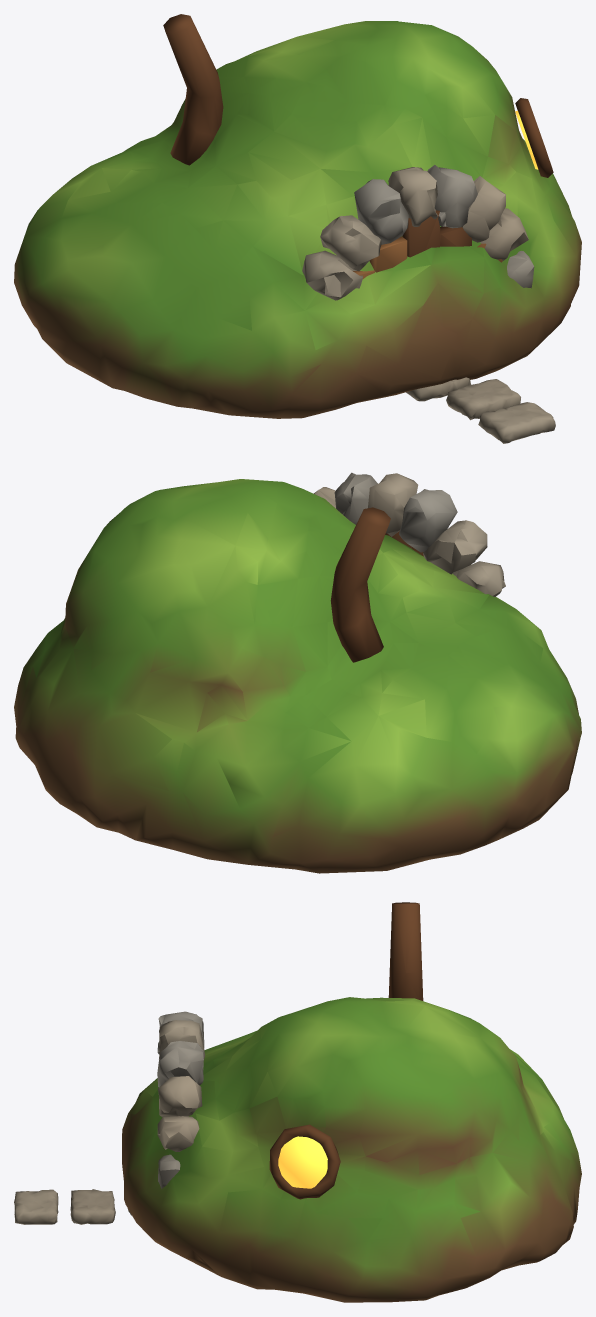
File: glade_warren_burrow_lod1.glb
3 renders of one model, top to bottom at view 1: azimuth 30°, elevation 25°; view 2: azimuth 150°, elevation 25°; view 3: azimuth 270°, elevation 25°, orthographic. The views are drawn at different scales.
Visible parts, largest first — view 1: glade_warren_burrow.001; view 2: glade_warren_burrow.001; view 3: glade_warren_burrow.001.
Boxes of the visible parts, <box> form: glade_warren_burrow.001: <box>14,14,581,443</box>; glade_warren_burrow.001: <box>14,472,581,873</box>; glade_warren_burrow.001: <box>14,902,581,1302</box>.
Size of the model in its own units: 7.48 by 4.2 by 8.32.
